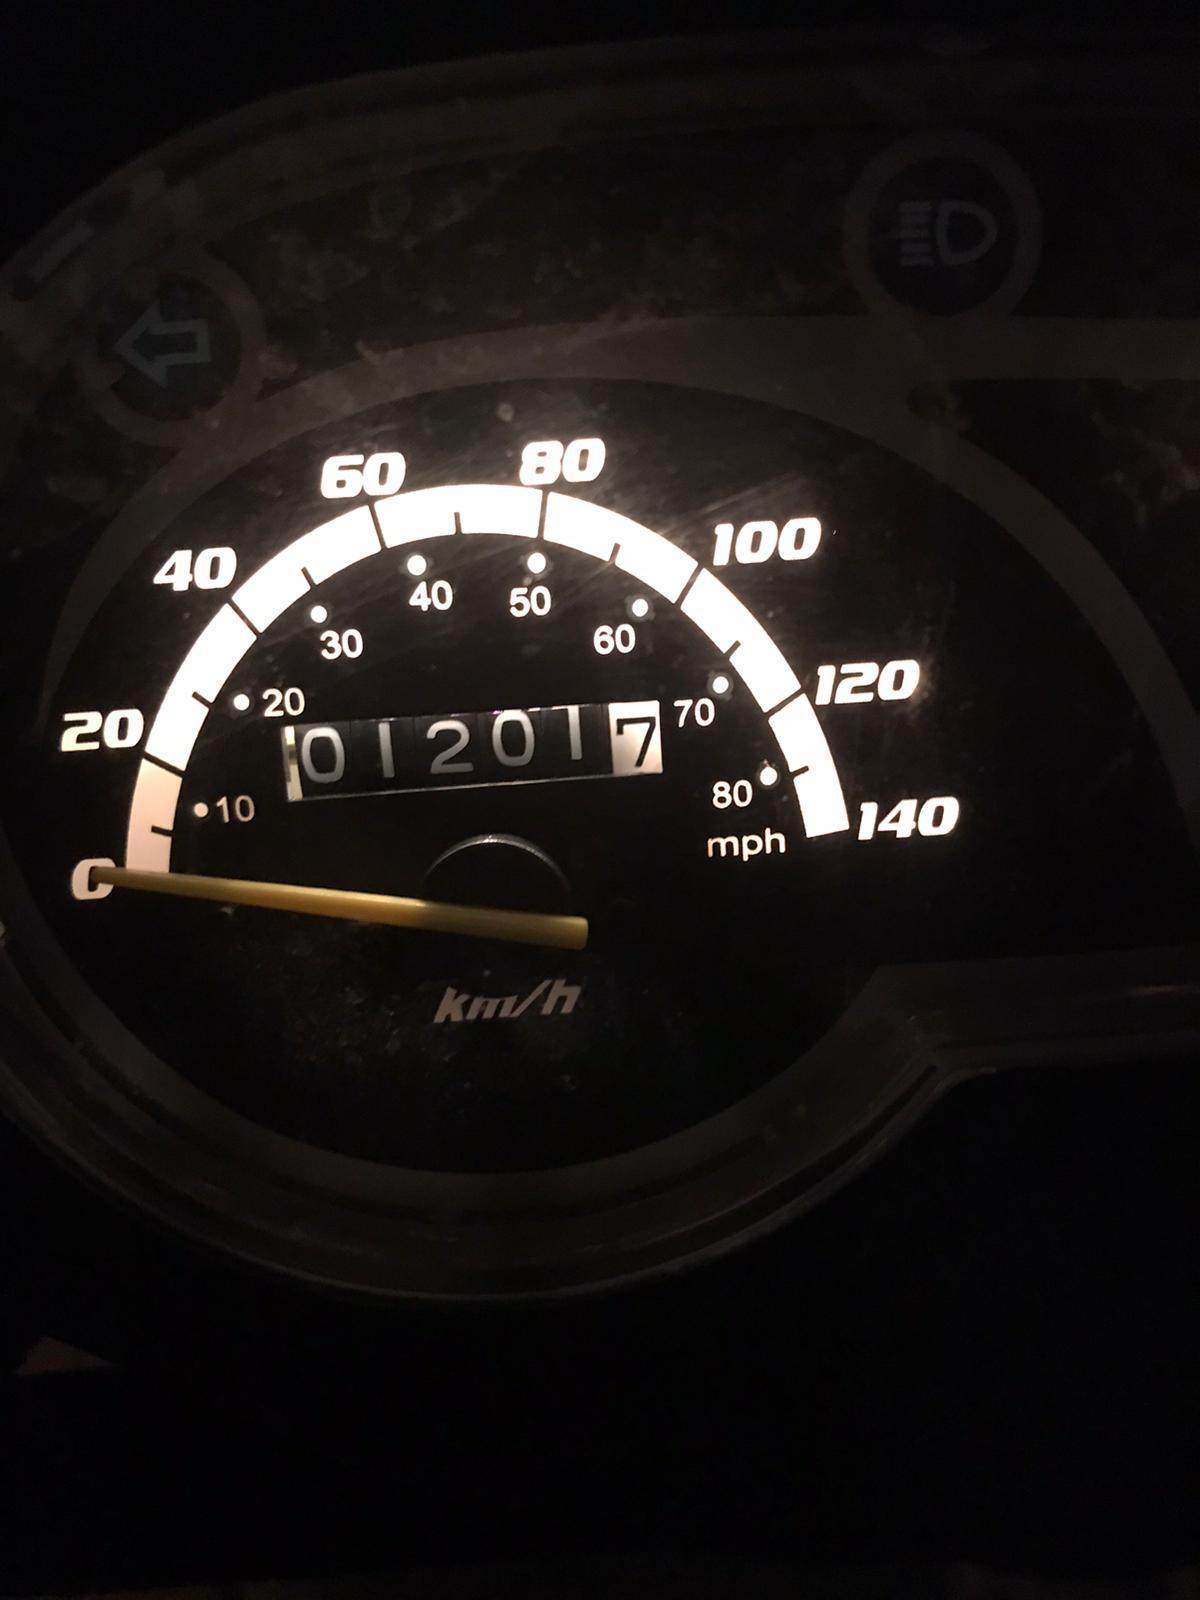0: (487, 706, 542, 775), (297, 723, 349, 789), (284, 685, 306, 716)
1: (371, 713, 405, 789), (563, 698, 587, 774)
2: (420, 716, 476, 780)
7: (611, 709, 663, 775)
odometer: (281, 690, 677, 823)
